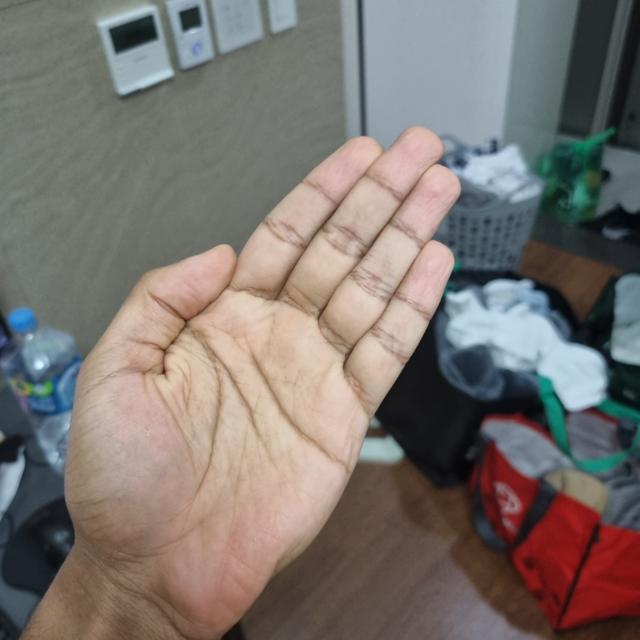Paper: (67, 126, 463, 627)
